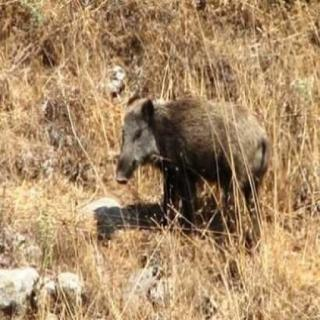Pig: (97, 78, 288, 226)
